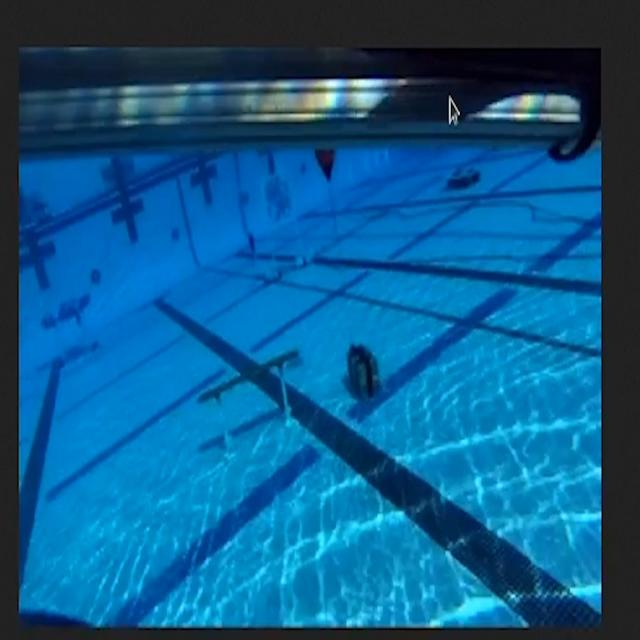Buoy: (310, 144, 341, 182)
